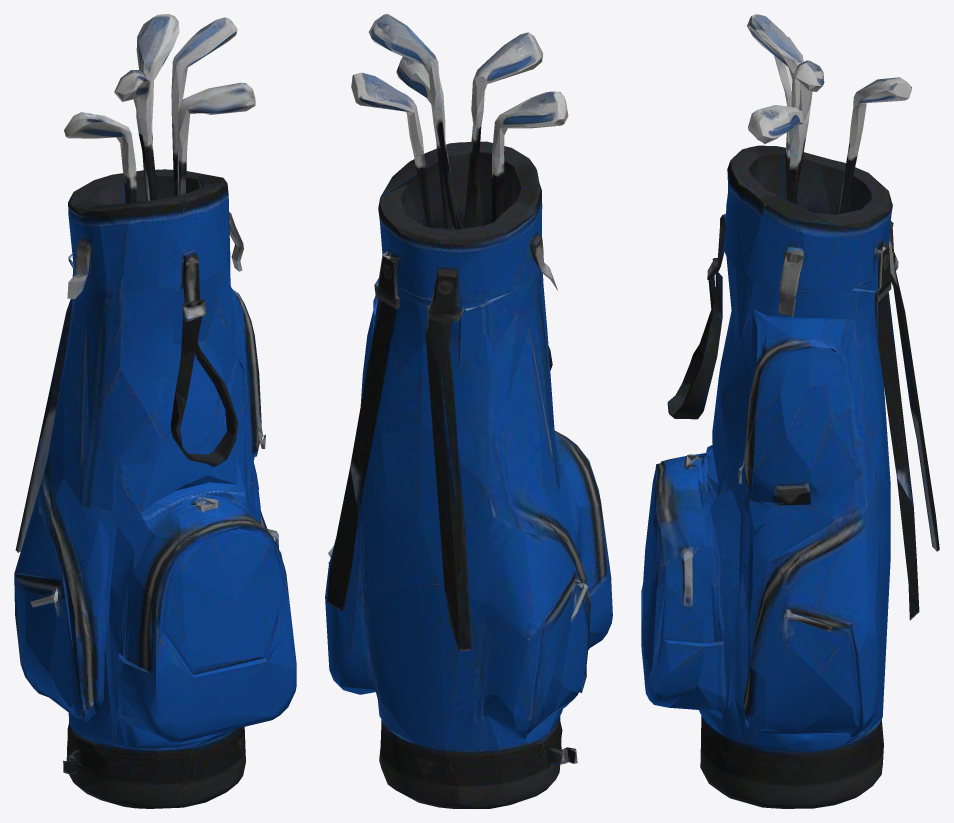
File: golf_bag.glb
3 renders of one model, left to right at view 1: azimuth 30°, elevation 25°; view 2: azimuth 150°, elevation 25°; view 3: azimuth 270°, elevation 25°, orthographic. The views are drawn at different scales.
Size of the model in its own units: 0.631 by 1.9 by 0.6846.
1 material, 1 textured.
